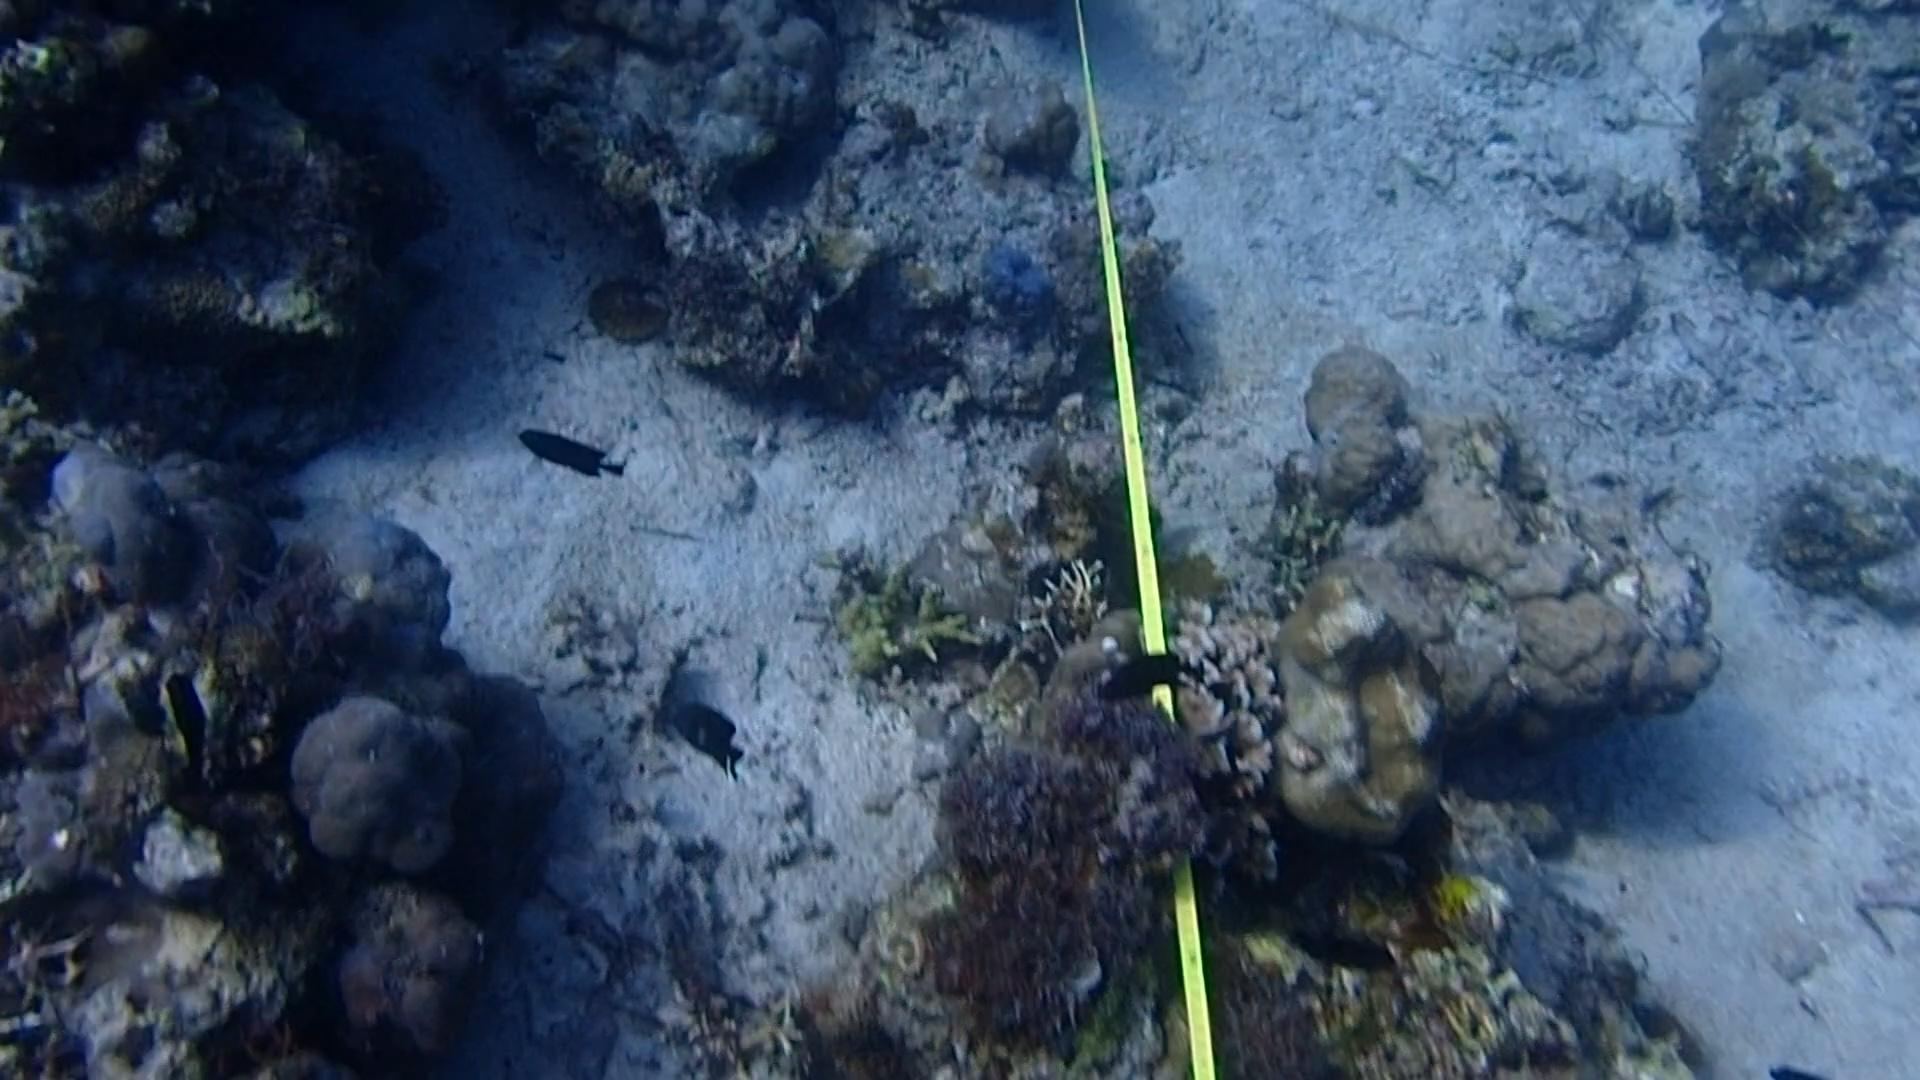Dark Fish: (1076, 638, 1196, 724), (663, 675, 758, 782), (156, 661, 235, 775), (502, 418, 626, 488)
Light Fish: (1623, 178, 1664, 239)
